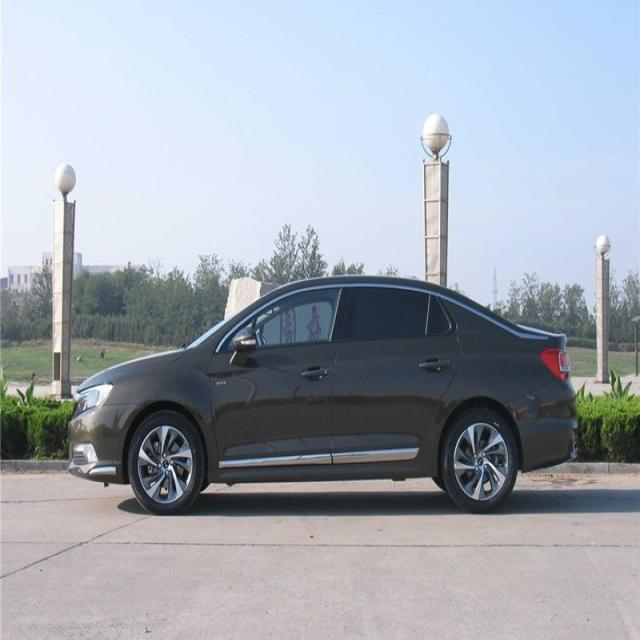back_left_side_light: (537, 344, 570, 384)
door: (327, 286, 467, 479)
front_bumper: (64, 401, 138, 485)
front_left_side_door: (207, 278, 351, 470)
front_left_side_light: (70, 380, 114, 424)
front_left_side_mirror: (230, 325, 262, 378)
rear_bumper: (506, 377, 578, 476)
wheel: (128, 408, 203, 514), (442, 406, 516, 512)
